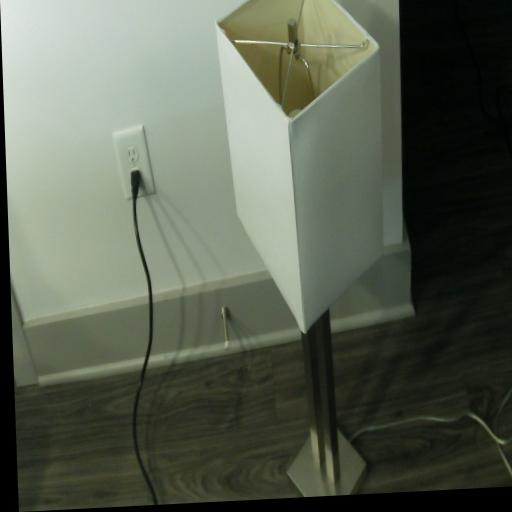lamp: (213, 0, 396, 501)
